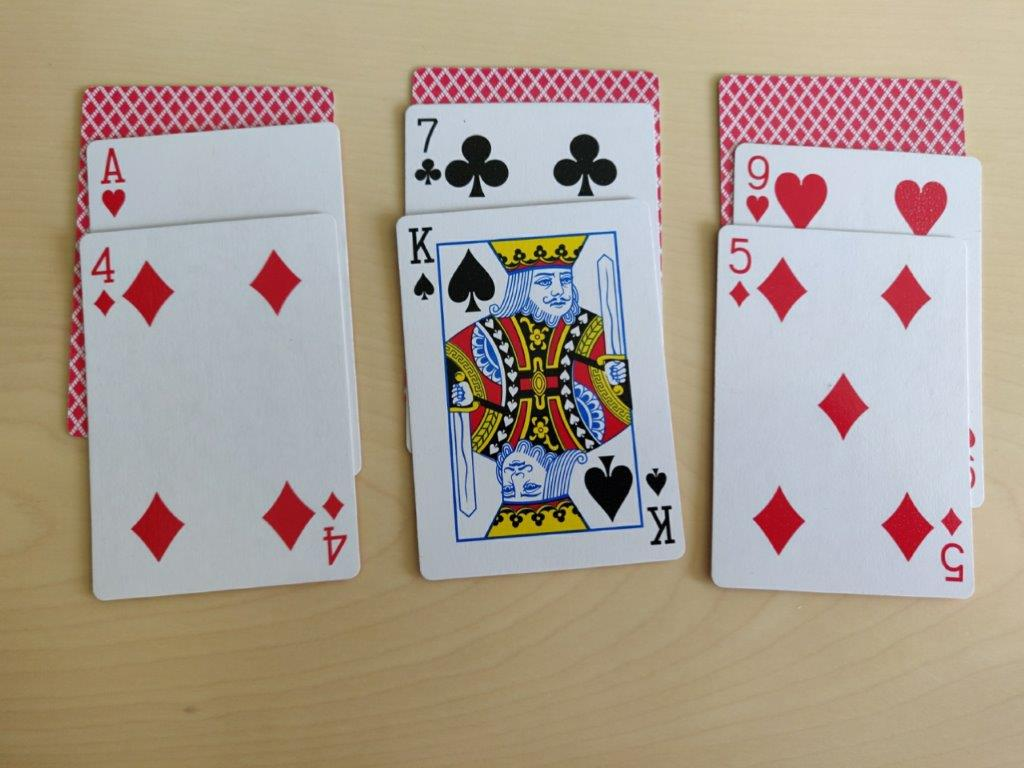4D: (87, 241, 118, 326)
5D: (726, 234, 757, 311)
7C: (408, 110, 446, 188)
9H: (741, 152, 773, 229)
AH: (93, 138, 135, 224)
BACK: (712, 69, 970, 153), (89, 84, 343, 129), (415, 67, 659, 103)
KS: (401, 219, 440, 308)
